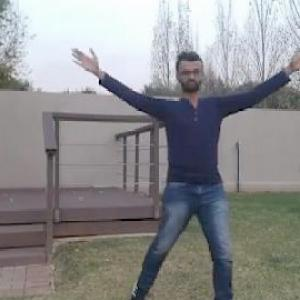takeoff: (60, 41, 300, 299)
